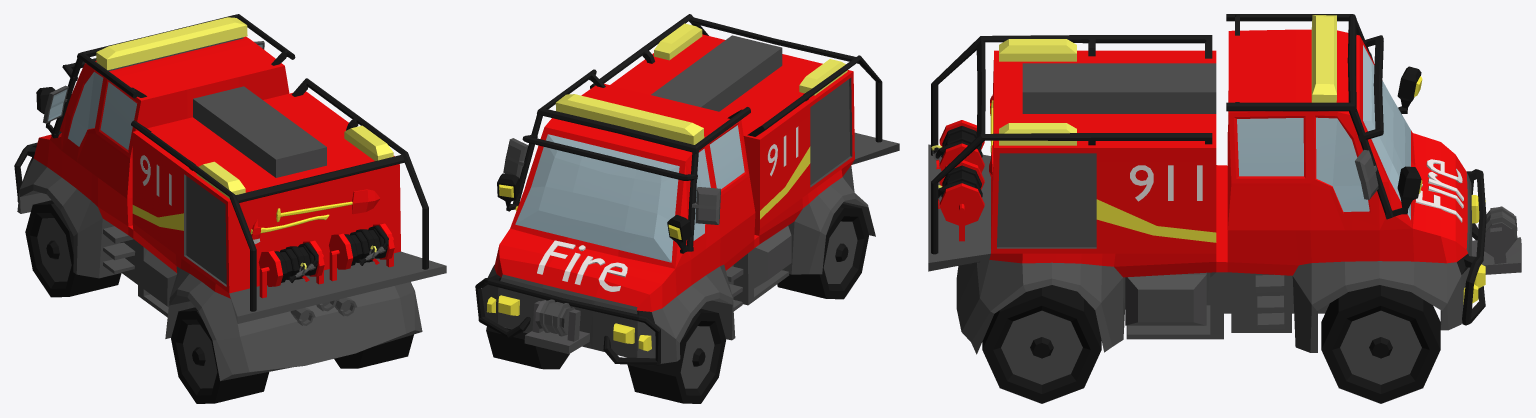
The model's file is FireCar2.fbx.
The picture shows the model from 3 angles, left to right: view 1: azimuth 30°, elevation 25°; view 2: azimuth 150°, elevation 25°; view 3: azimuth 270°, elevation 25°; orthographic projection. The views are drawn at different scales.
Parts seen in each view (by area): view 1: FireCar2; view 2: FireCar2; view 3: FireCar2.
Boxes of the visible parts, <box> form: FireCar2: <box>14,14,446,403</box>; FireCar2: <box>475,14,899,403</box>; FireCar2: <box>928,14,1521,403</box>.
Bounding box in the file's own units: 274 × 306 × 551.
1 material, 1 textured.
